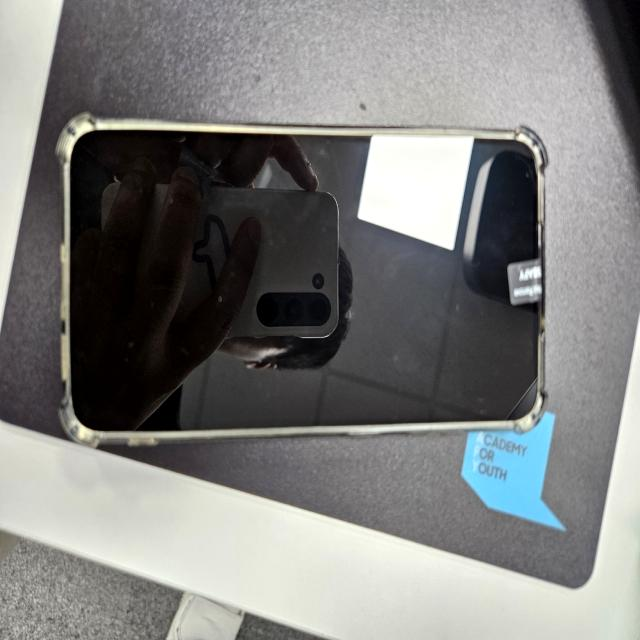phone: (49, 114, 551, 445)
sticker: (505, 255, 546, 307)
